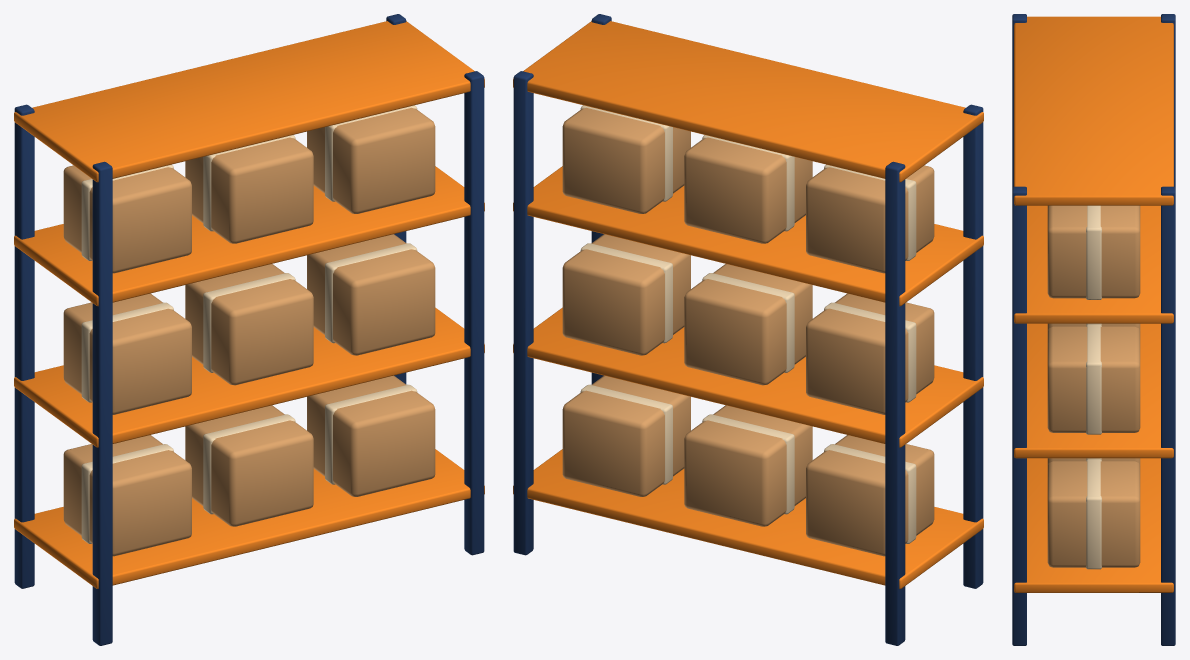
Rendered from rack.glb.
The picture shows the model from 3 angles, left to right: view 1: azimuth 30°, elevation 25°; view 2: azimuth 150°, elevation 25°; view 3: azimuth 270°, elevation 25°; orthographic projection. The views are drawn at different scales.
Visible parts, largest first — view 1: viga.003, viga.002, viga, viga.001, c1.15_1, c0.35_1, c1.15_2, c0.35_2, c1.95_1, c1.95_2, c0.35_0, c1.15_0 (+13 smaller); view 2: viga.003, viga.002, viga, viga.001, c1.15_1, c0.35_1, c1.15_2, c0.35_2, c1.95_1, c1.95_2, c0.35_0, c1.15_0 (+13 smaller); view 3: viga.003, c0.35_2, c1.15_2, viga.001, viga, viga.002, c1.95_2, poste.002, poste.003, c0.35_2_cinta, c1.15_2_cinta, c1.95_2_cinta (+4 smaller).
Part boxes in pixels (x1,y1,x2,y2): viga.003: [14, 21, 484, 182]; viga.002: [14, 166, 484, 306]; viga: [14, 449, 484, 588]; viga.001: [14, 307, 484, 447]; c1.15_1: [185, 264, 313, 385]; c0.35_1: [185, 405, 313, 526]; c1.15_2: [307, 234, 435, 355]; c0.35_2: [307, 375, 435, 496]; c1.95_1: [185, 137, 313, 243]; c1.95_2: [307, 107, 435, 213]; c0.35_0: [63, 435, 191, 556]; c1.15_0: [63, 293, 191, 414]; viga.003: [513, 21, 983, 182]; viga.002: [513, 166, 983, 306]; viga: [513, 449, 983, 588]; viga.001: [513, 307, 983, 447]; c1.15_1: [684, 264, 812, 385]; c0.35_1: [684, 405, 812, 526]; c1.15_2: [562, 234, 690, 355]; c0.35_2: [562, 375, 690, 496]; c1.95_1: [684, 137, 812, 243]; c1.95_2: [562, 107, 690, 213]; c0.35_0: [806, 435, 934, 556]; c1.15_0: [806, 293, 934, 414]; viga.003: [1014, 16, 1173, 205]; c0.35_2: [1047, 461, 1140, 567]; c1.15_2: [1047, 326, 1140, 432]; viga.001: [1014, 323, 1173, 458]; viga: [1014, 458, 1173, 592]; viga.002: [1014, 205, 1173, 323]; c1.95_2: [1047, 205, 1140, 298]; poste.002: [1012, 186, 1026, 645]; poste.003: [1161, 186, 1175, 645]; c0.35_2_cinta: [1086, 459, 1101, 569]; c1.15_2_cinta: [1086, 324, 1101, 434]; c1.95_2_cinta: [1086, 205, 1101, 299].
Size of the model in its own units: 2.3 by 2.7 by 0.88.
